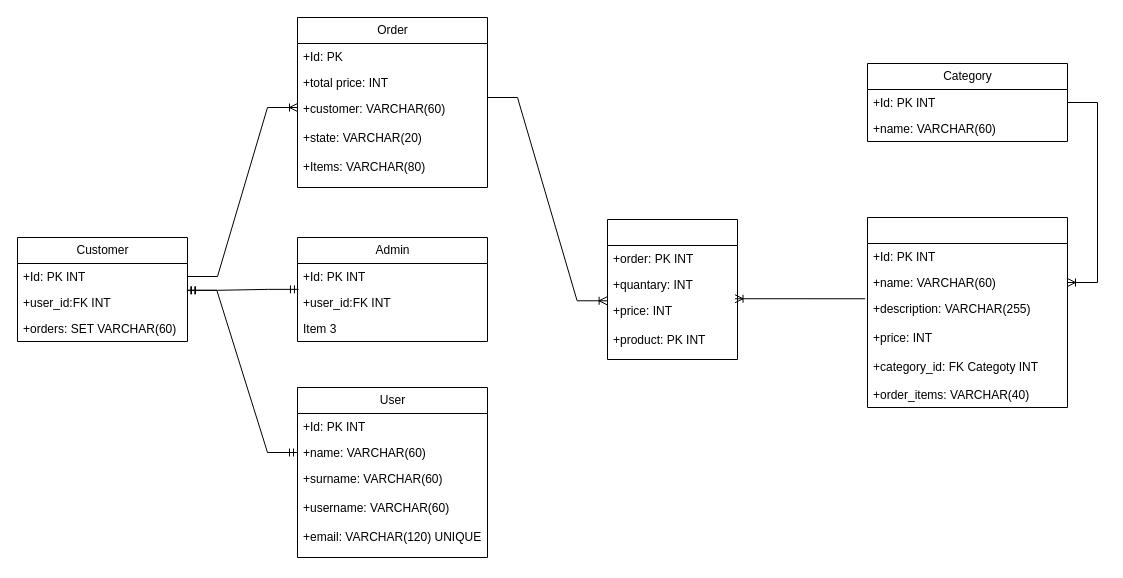
This 1123x578 diagram has some shape labels left out. Each missing label, with the box of its shape:
Order_Items: (606, 218, 738, 360)
Product: (866, 216, 1068, 408)
